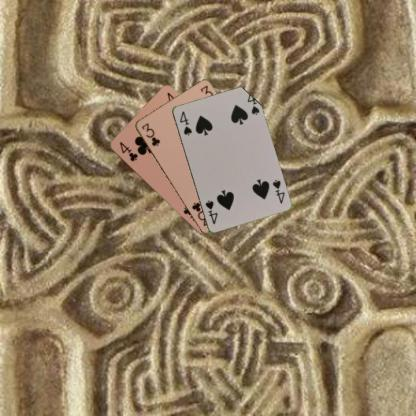3c: (139, 121, 161, 148)
4c: (116, 139, 139, 162)
4s: (177, 108, 193, 136), (270, 177, 285, 204)
